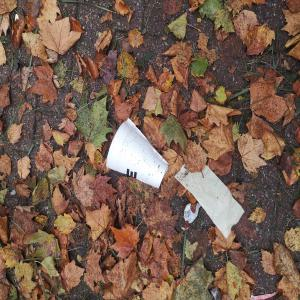Cup: (106, 117, 172, 192)
Trash: (174, 161, 248, 242), (181, 202, 202, 235)
